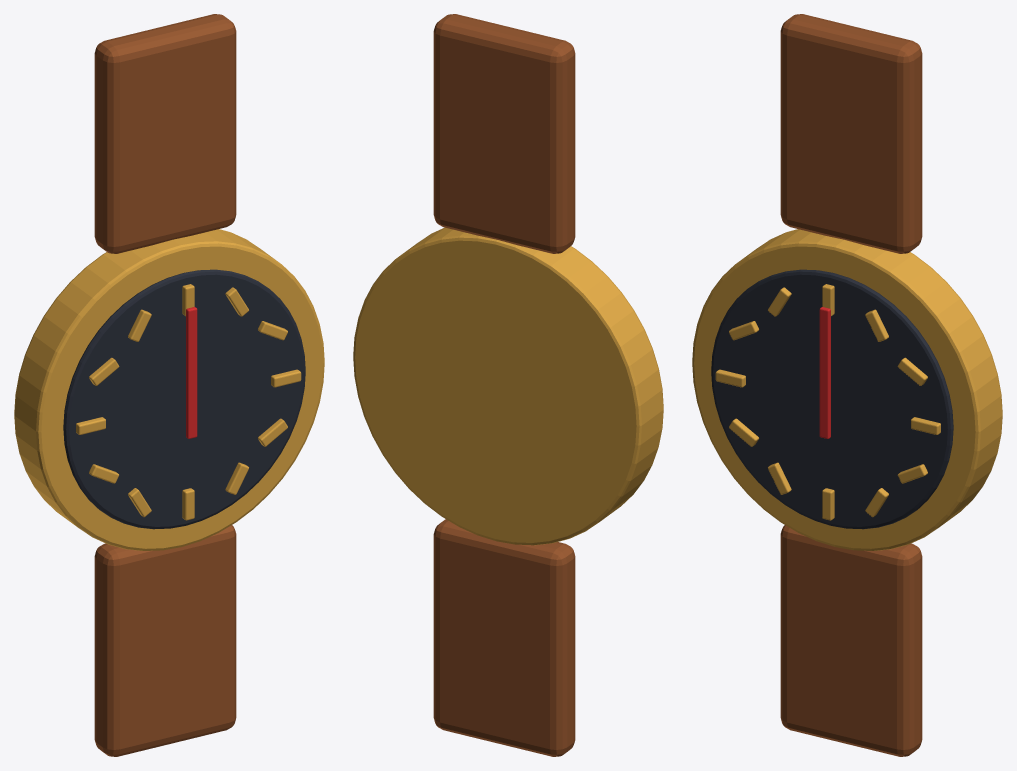
The model's file is montre-aviateur-unique.glb.
The picture shows the model from 3 angles, left to right: view 1: azimuth 30°, elevation 25°; view 2: azimuth 150°, elevation 25°; view 3: azimuth 330°, elevation 25°; orthographic projection.
Visible parts, largest first — view 1: Cadran, Bracelet haut, Bracelet bas, Boitier, Aiguille; view 2: Boitier, Bracelet haut, Bracelet bas; view 3: Cadran, Bracelet haut, Bracelet bas, Boitier, Aiguille.
Part boxes in pixels (x1=…): Cadran: x1=63, y1=269, x2=305, y2=529; Bracelet haut: x1=94, y1=14, x2=236, y2=253; Bracelet bas: x1=94, y1=525, x2=236, y2=756; Boitier: x1=14, y1=229, x2=324, y2=550; Aiguille: x1=186, y1=307, x2=197, y2=438; Boitier: x1=353, y1=227, x2=663, y2=545; Bracelet haut: x1=433, y1=14, x2=575, y2=253; Bracelet bas: x1=433, y1=519, x2=575, y2=756; Cadran: x1=711, y1=269, x2=953, y2=529; Bracelet haut: x1=780, y1=14, x2=922, y2=253; Bracelet bas: x1=780, y1=525, x2=922, y2=756; Boitier: x1=692, y1=229, x2=1002, y2=550; Aiguille: x1=819, y1=307, x2=830, y2=438.
Bounding box in the file's own units: 2.1 × 4.94 × 0.468.
